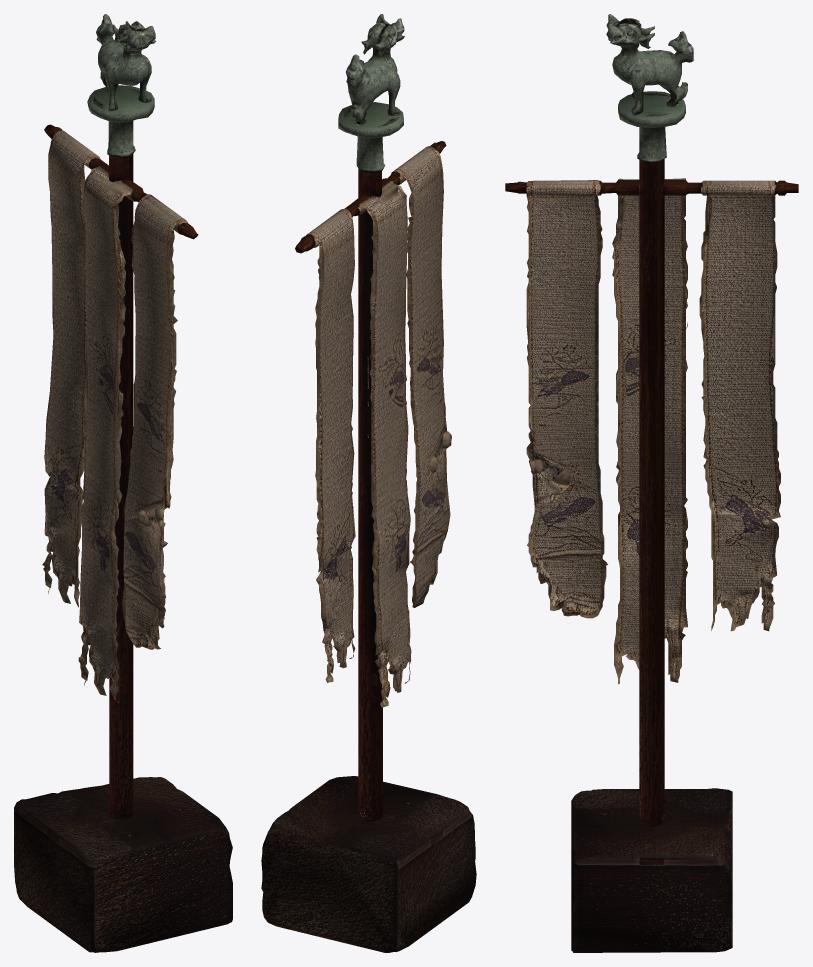
Rendered from tripo_convert_844585a6-5cde-4844-b006-a9fc5ef49f19.fbx.
3 views of the same model, side by side, from view 1: azimuth 30°, elevation 25°; view 2: azimuth 150°, elevation 25°; view 3: azimuth 270°, elevation 25° (orthographic). The views are drawn at different scales.
Parts seen in each view (by area): view 1: tripo_node_844585a6; view 2: tripo_node_844585a6; view 3: tripo_node_844585a6.
Part boxes in pixels (x1,y1,x2,y2): tripo_node_844585a6: (14, 14, 232, 952); tripo_node_844585a6: (261, 14, 476, 952); tripo_node_844585a6: (505, 14, 798, 952).
Size of the model in its own units: 0.1621 by 0.998 by 0.2949.
Materials: 1 (1 with a texture image).
